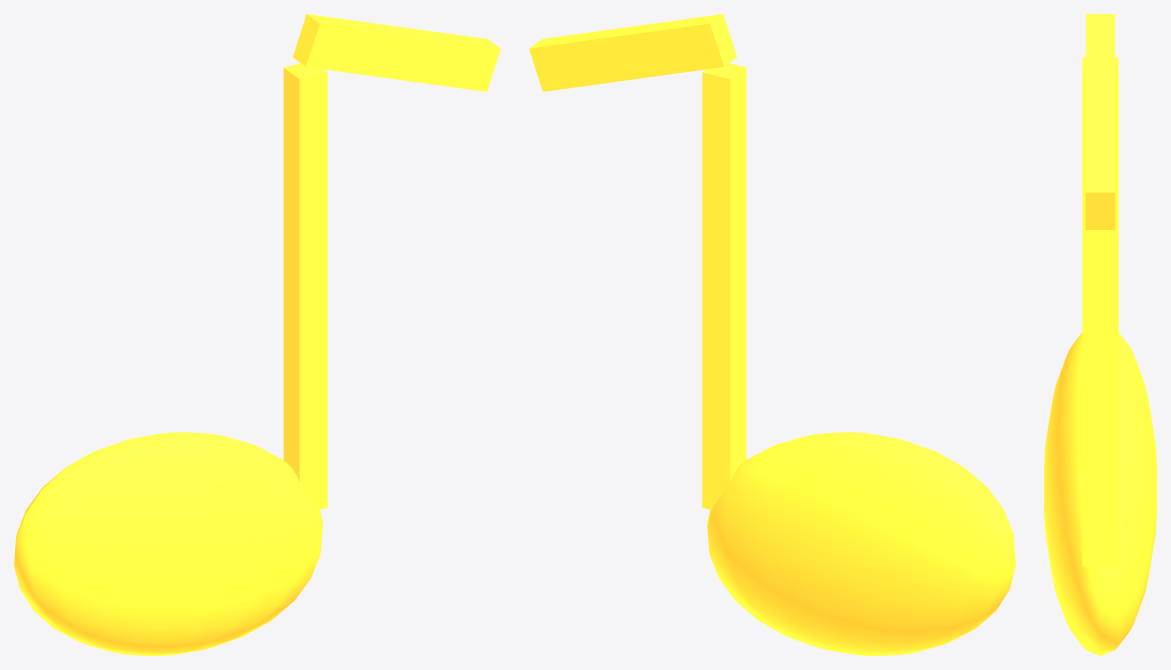
Rendered from note.glb.
The picture shows the model from 3 angles, left to right: view 1: azimuth 30°, elevation 25°; view 2: azimuth 150°, elevation 25°; view 3: azimuth 270°, elevation 25°; orthographic projection. The views are drawn at different scales.
Visible parts, largest first — view 1: NoteHead, NoteStem, NoteFlag; view 2: NoteHead, NoteStem, NoteFlag; view 3: NoteHead, NoteStem, NoteFlag.
Boxes of the visible parts, x1,y1,x2,y2 form: NoteHead: (14,432,322,655); NoteStem: (283,63,327,509); NoteFlag: (293,14,500,91); NoteHead: (707,432,1015,655); NoteStem: (702,63,746,509); NoteFlag: (529,14,736,91); NoteHead: (1044,332,1156,655); NoteStem: (1082,57,1118,566); NoteFlag: (1085,14,1115,229).
Bounding box in the file's own units: 0.9466 × 1.13 × 0.1702.
